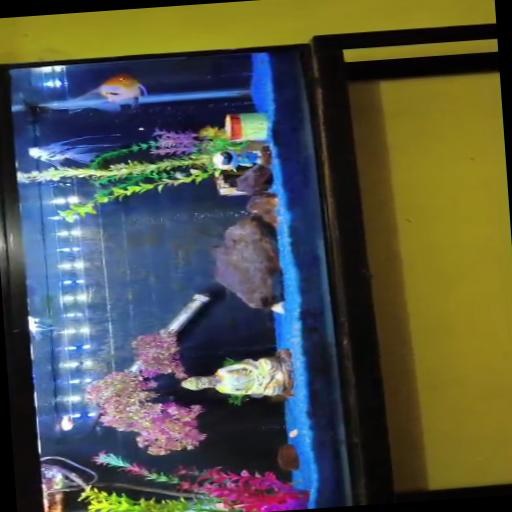Fish: (44, 74, 147, 112), (29, 135, 121, 165), (28, 316, 57, 339), (61, 415, 74, 430)
